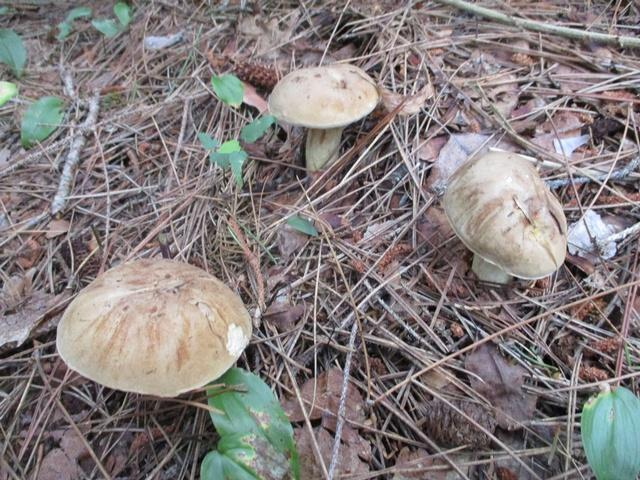Non-edible Mushroom: (54, 256, 253, 398), (441, 149, 568, 285), (266, 62, 380, 177)
